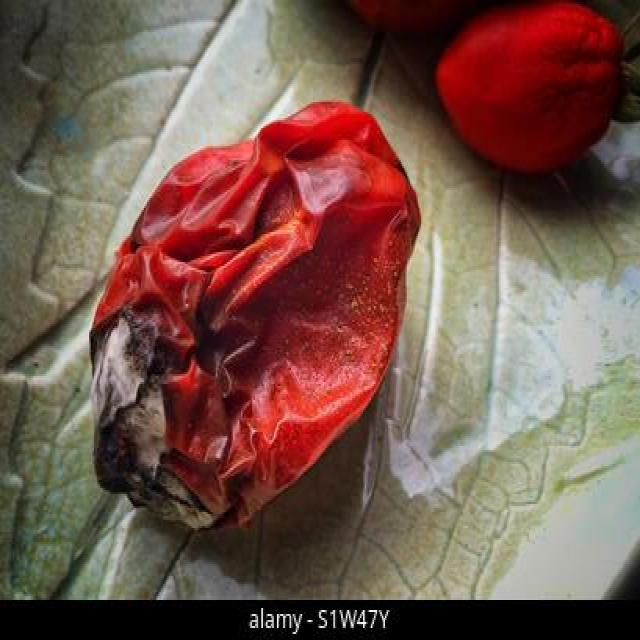Rotten: (85, 99, 423, 530)
